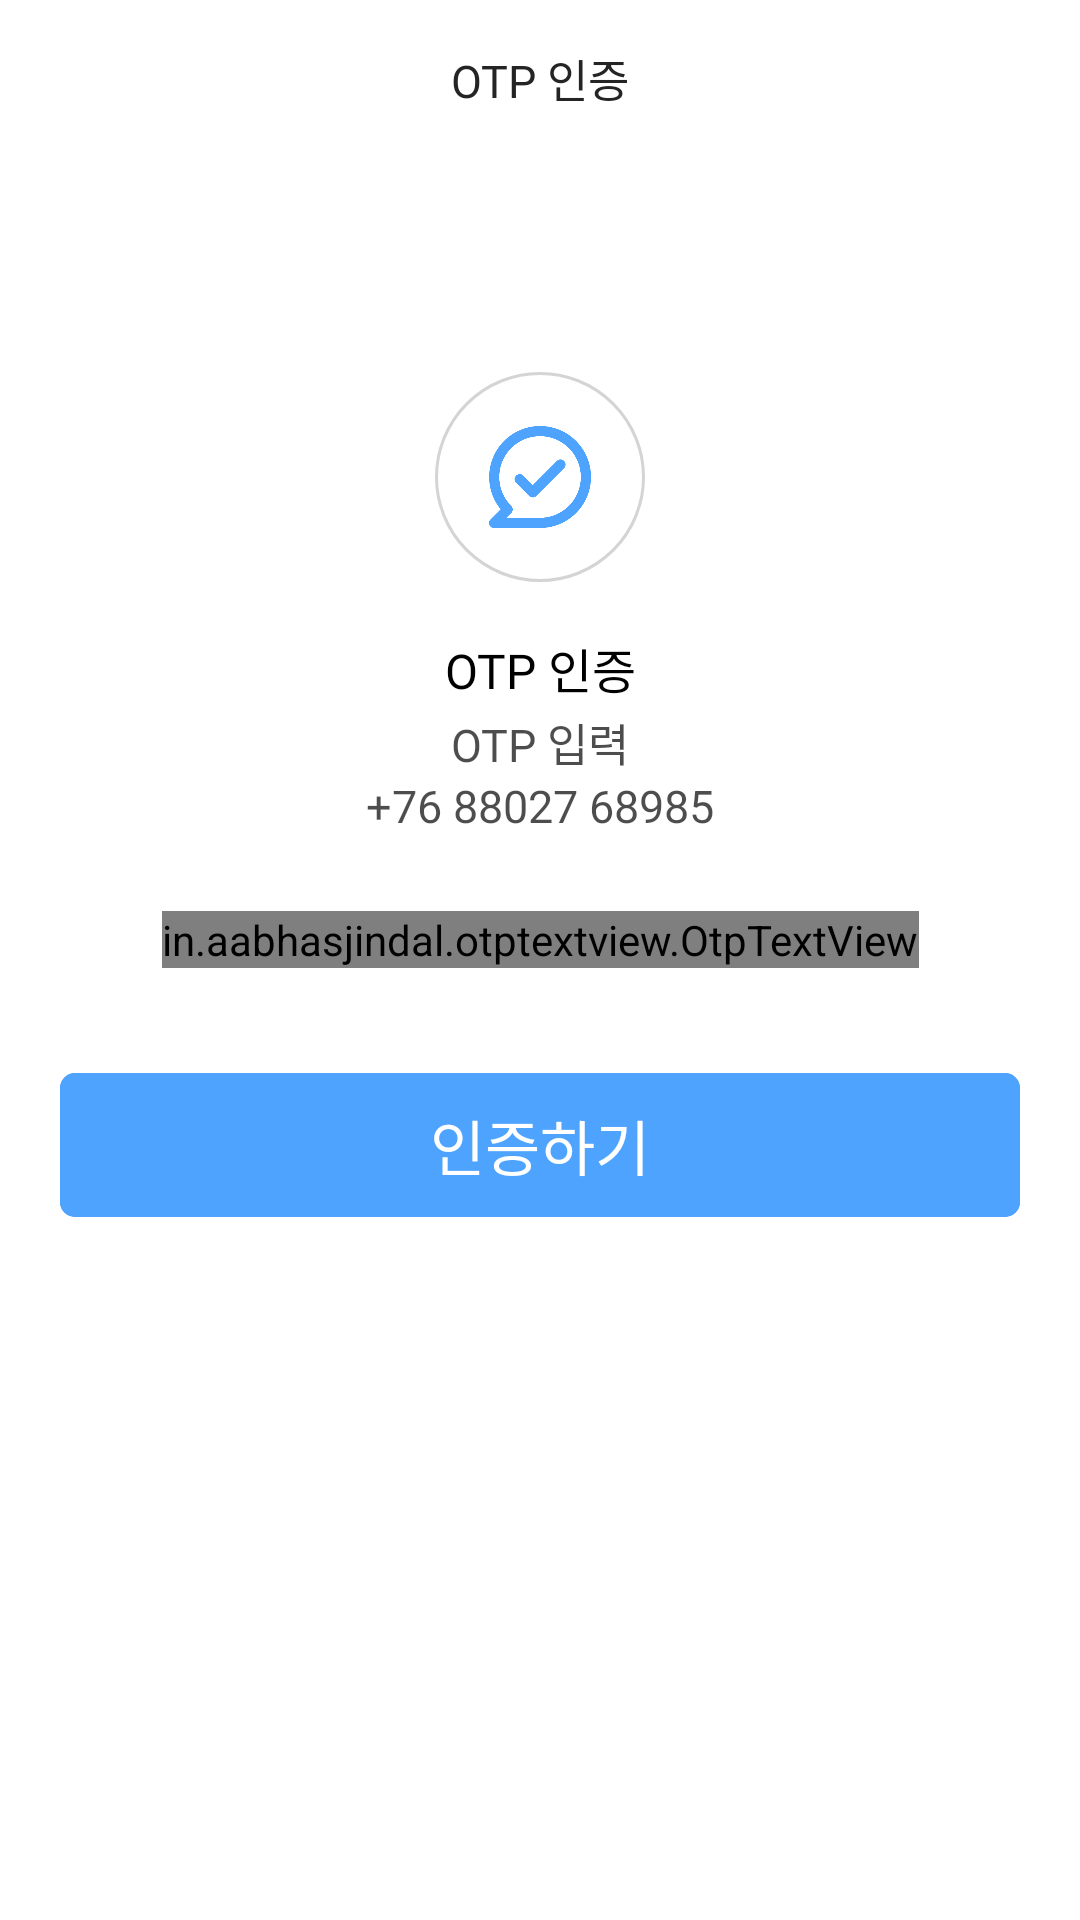

Screen size 1080w x 1920h. Icon name, then its center in pixels as (x,y):
check: (540,477)
